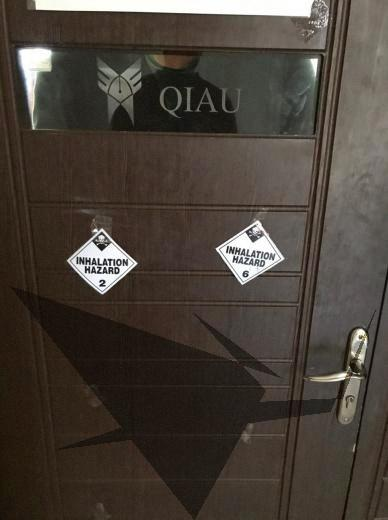poison: (66, 228, 139, 299), (215, 219, 288, 286)
